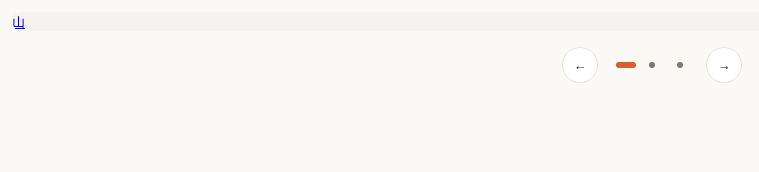
Test case: arrows loop, dots navigate, and hidden slides cannot be focused
Click the button named "上一张". click: (580, 65)
box: [562,47,598,83]
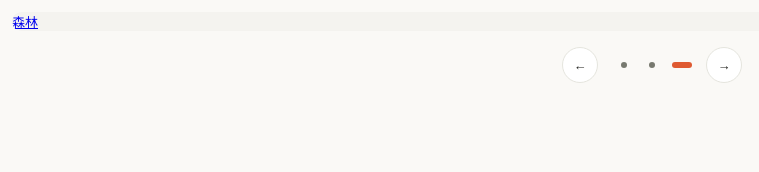
Expected: the link reads "森林", [12,14,38,31]
Click the button named "下一张". click: (724, 65)
box: [706,47,742,83]
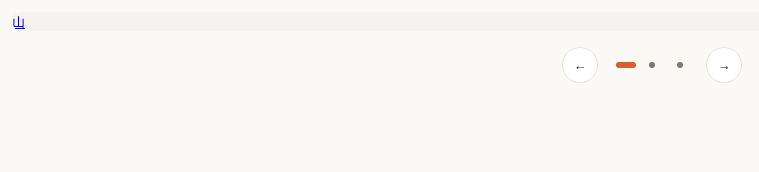
Expected: the link reads "山", [12,14,25,31]
Click the button named "跳转到第 2 张：海". click: (652, 65)
box: [638,47,666,83]
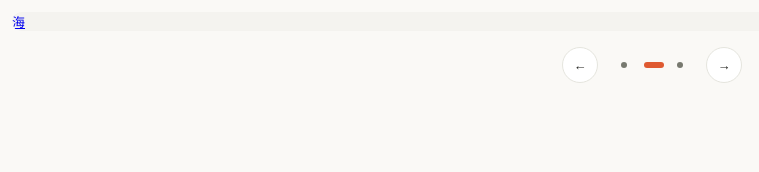
Expected: the link reads "海", [12,14,25,31]
